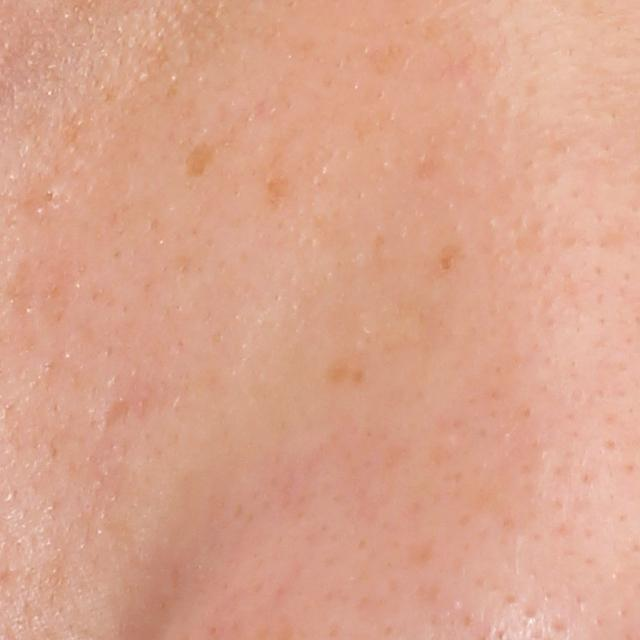atrophic_scar: (89, 392, 135, 433)
comedo: (39, 182, 63, 207)
melasma: (257, 151, 299, 215), (175, 138, 224, 191), (362, 41, 426, 78), (319, 355, 374, 393), (435, 237, 462, 278)
